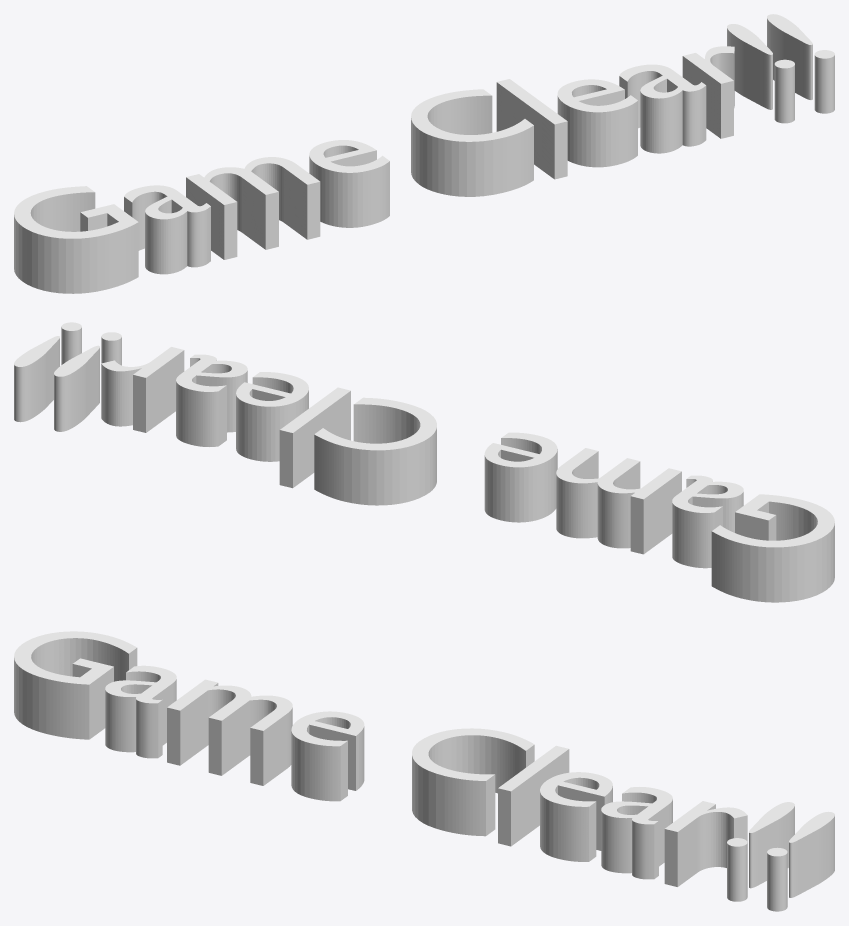
The model's file is clear.obj.
The picture shows the model from 3 angles, top to bottom: view 1: azimuth 30°, elevation 25°; view 2: azimuth 150°, elevation 25°; view 3: azimuth 330°, elevation 25°; orthographic projection.
Visible parts, largest first — view 1: テキスト.001; view 2: テキスト.001; view 3: テキスト.001.
Part boxes in pixels (x1,y1,x2,y2): テキスト.001: (14,14,834,293); テキスト.001: (14,322,834,602); テキスト.001: (14,631,834,911).
Size of the model in its own units: 5.34 by 0.3569 by 0.7.
1 material, 1 textured.
